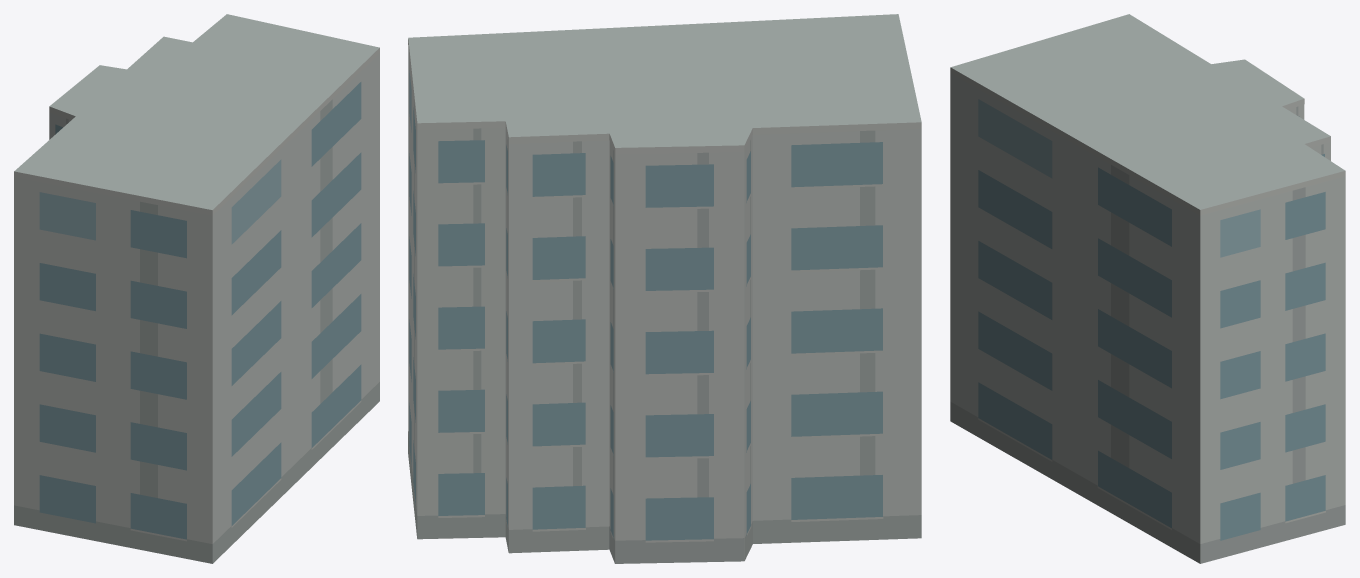
Rendered from survey-upis-32695807.glb.
3 views of the same model, side by side, from view 1: azimuth 30°, elevation 25°; view 2: azimuth 150°, elevation 25°; view 3: azimuth 270°, elevation 25° (orthographic). The views are drawn at different scales.
Visible parts, largest first — view 1: survey-upis-32695807.tmp; view 2: survey-upis-32695807.tmp; view 3: survey-upis-32695807.tmp.
Part boxes in pixels (<box>): survey-upis-32695807.tmp: <box>14,14,379,563</box>; survey-upis-32695807.tmp: <box>408,14,921,563</box>; survey-upis-32695807.tmp: <box>950,14,1345,563</box>.
Size of the model in its own units: 18.11 by 15.25 by 15.44.
